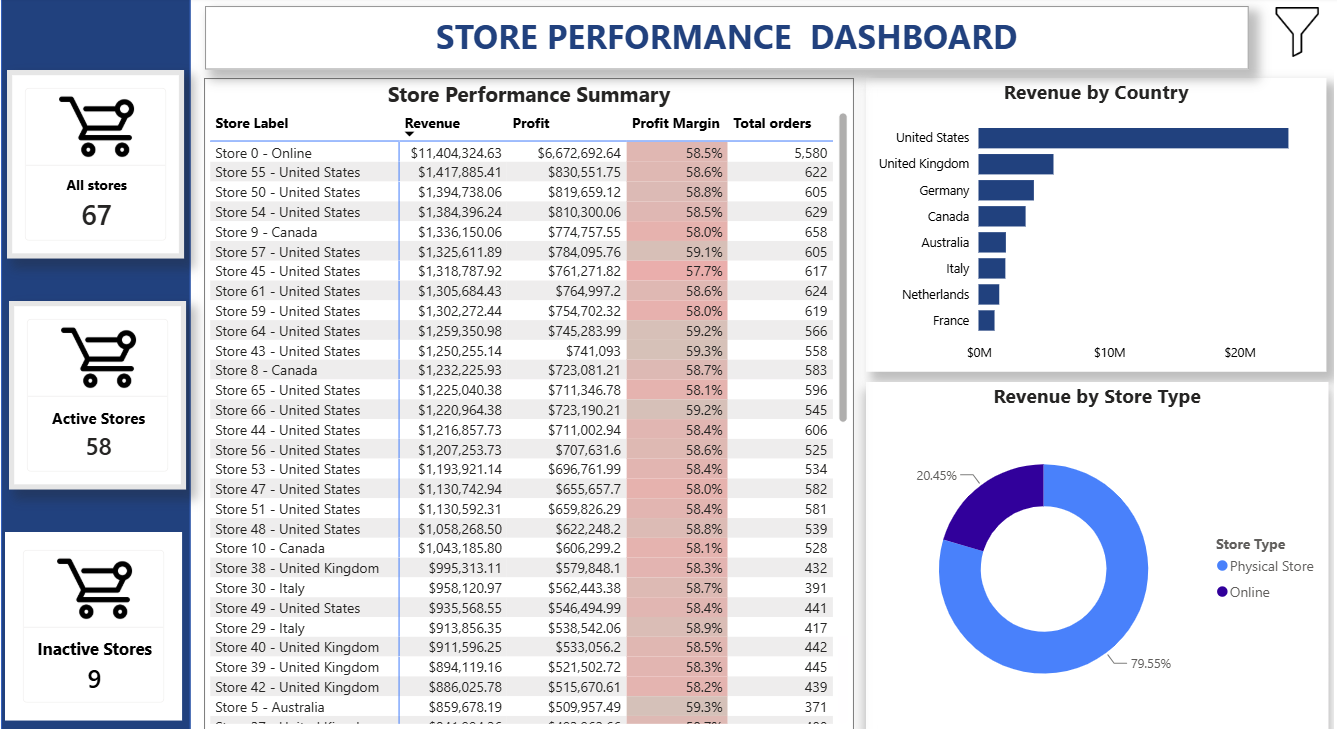

The page's visual inventory and layout, read from the dashboard file:
{"tool":"powerbi","page":{"name":"Store Performance","canvas":[1280,720],"ordinal":13},"visuals":[{"type":"shape","box":[0,0,182,720],"z":0},{"type":"cardVisual","fields":{"Data":["Stores.Total stores"]},"box":[8,292,170,181],"z":3000},{"type":"cardVisual","fields":{"Data":["Stores.Measure"]},"box":[6,70,170,181],"z":4000},{"type":"barChart","fields":{"Category":["Stores.Country"],"Y":["Sales.Total Revenue"]},"box":[830,78,442,282],"z":5000},{"type":"donutChart","fields":{"Category":["Stores.Store Type"],"Y":["Sales.Total Revenue"]},"box":[830,370,444,334],"z":6000},{"type":"pivotTable","title":"Store Performance Summary","fields":{"Rows":["Stores.Store Label"],"Values":["Sales.Total Revenue","Sales.Profit","Sales.Profit Margin","Sales.Total orders"]},"box":[195,78,624,626],"z":7000},{"type":"textbox","box":[195.5,8.8,1002,60.9],"z":8000},{"type":"image","box":[1214,10,60,48],"z":11000},{"type":"cardVisual","fields":{"Data":["Stores.Stores Without Sales"]},"box":[4,514,170,181],"z":12000}]}

Visuals, with their boxes on the page's 1280x720 design canvas (x1, y1, x2, y2). These are canvas units, not pixel positions in the 1337x729 screenshot, which may show the page scaled, cropped or inside an application window:
shape: (x1=0, y1=0, x2=182, y2=720)
cardVisual - Stores.Total stores: (x1=8, y1=292, x2=178, y2=473)
cardVisual - Stores.Measure: (x1=6, y1=70, x2=176, y2=251)
barChart - Stores.Country x Sales.Total Revenue: (x1=830, y1=78, x2=1272, y2=360)
donutChart - Stores.Store Type x Sales.Total Revenue: (x1=830, y1=370, x2=1274, y2=704)
"Store Performance Summary" pivotTable: (x1=195, y1=78, x2=819, y2=704)
textbox: (x1=196, y1=9, x2=1198, y2=70)
image: (x1=1214, y1=10, x2=1274, y2=58)
cardVisual - Stores.Stores Without Sales: (x1=4, y1=514, x2=174, y2=695)
